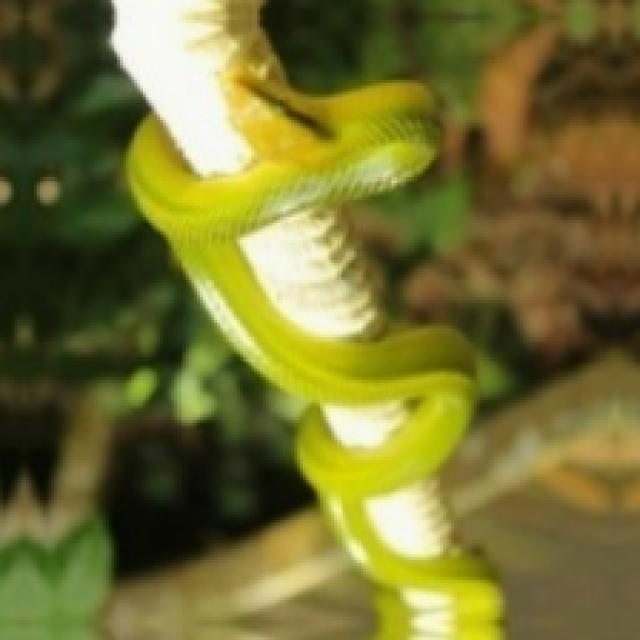red-tailed green ratsnake: (111, 0, 500, 637)
